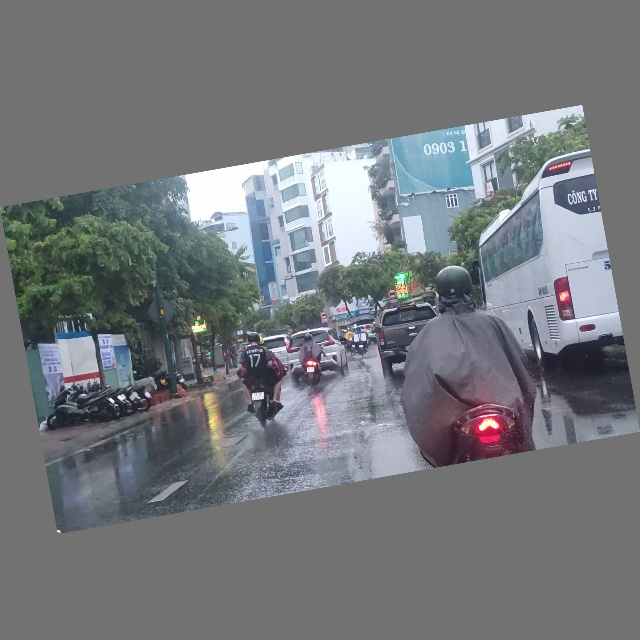P.106a*Xe tai: (387, 289, 397, 300), (320, 312, 328, 320)
